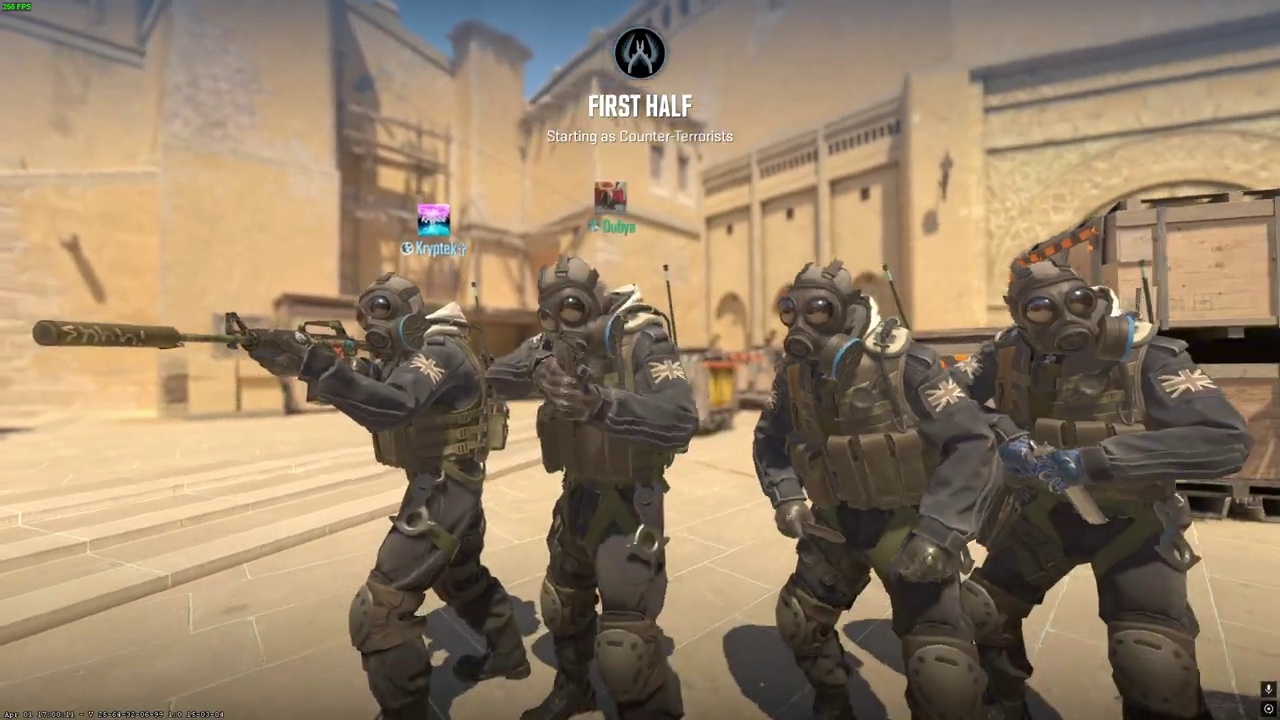CT: (926, 252, 1249, 720), (738, 258, 987, 719), (510, 253, 708, 720), (320, 270, 521, 719)
